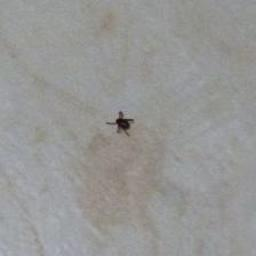Rhipicephalus sanguineus: (106, 111, 135, 136)
